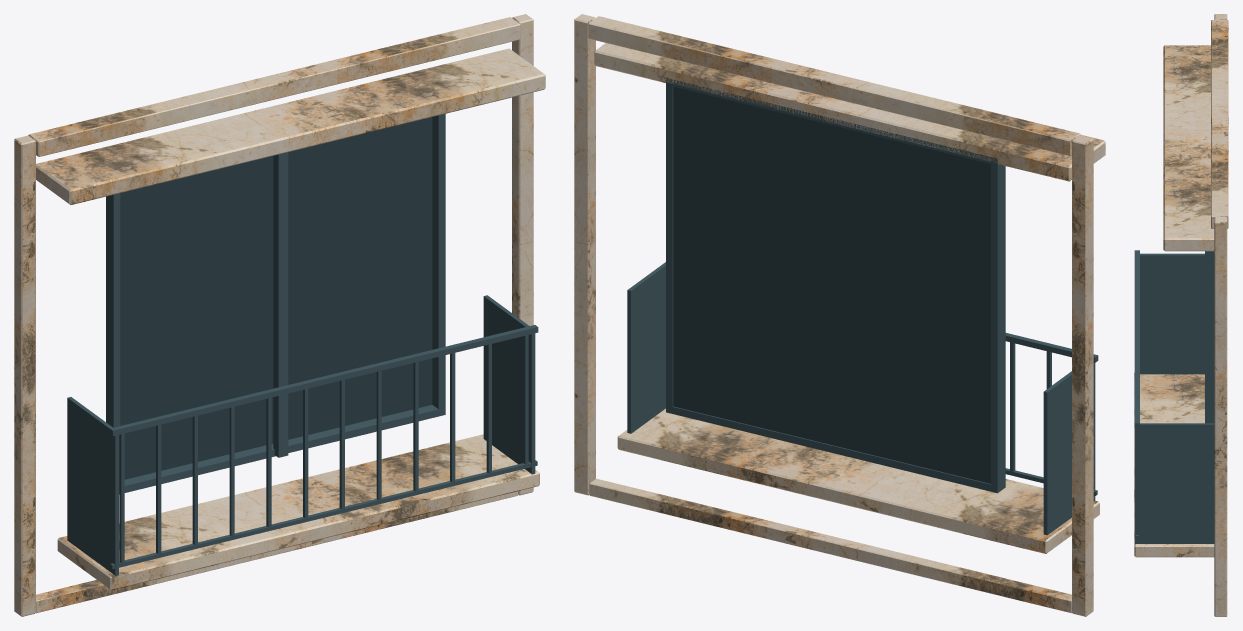
Rendered from facade_tropical_apartment_upper.glb.
3 views of the same model, side by side, from view 1: azimuth 30°, elevation 25°; view 2: azimuth 150°, elevation 25°; view 3: azimuth 270°, elevation 25° (orthographic). The views are drawn at different scales.
Parts seen in each view (by area): view 1: facade_tropical_apartment_upper__VVK_dark_glass, facade_tropical_apartment_upper__VVK_concrete_CC0, facade_tropical_apartment_upper__VVK_painted_steel; view 2: facade_tropical_apartment_upper__VVK_dark_glass, facade_tropical_apartment_upper__VVK_concrete_CC0, facade_tropical_apartment_upper__VVK_painted_steel; view 3: facade_tropical_apartment_upper__VVK_concrete_CC0, facade_tropical_apartment_upper__VVK_painted_steel.
Boxes of the visible parts, x1,y1,x2,y2 form: facade_tropical_apartment_upper__VVK_dark_glass: (120,117,432,479); facade_tropical_apartment_upper__VVK_concrete_CC0: (14,14,545,616); facade_tropical_apartment_upper__VVK_painted_steel: (67,114,538,575); facade_tropical_apartment_upper__VVK_dark_glass: (673,86,990,483); facade_tropical_apartment_upper__VVK_concrete_CC0: (574,14,1105,616); facade_tropical_apartment_upper__VVK_painted_steel: (627,78,1098,535); facade_tropical_apartment_upper__VVK_concrete_CC0: (1134,14,1228,616); facade_tropical_apartment_upper__VVK_painted_steel: (1134,250,1214,543).
Size of the model in its own units: 3.4 by 3 by 0.648.
3 materials, 1 textured.
